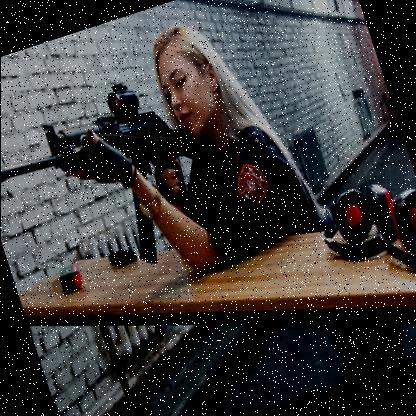rifle: (0, 57, 231, 295)
